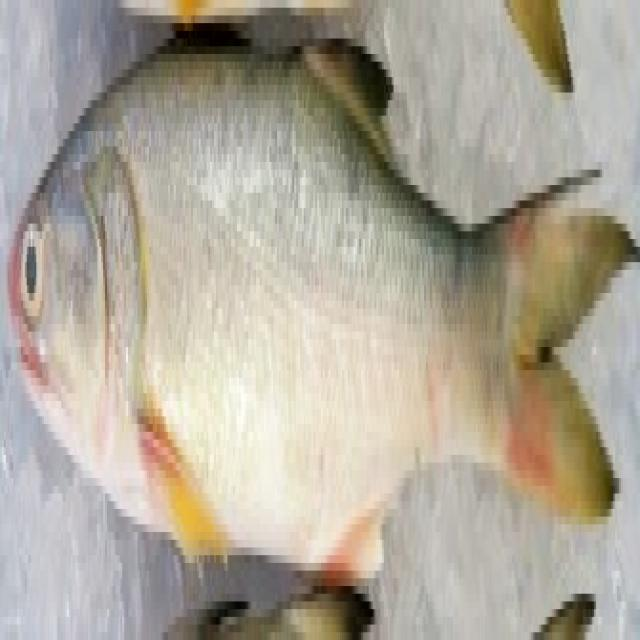Fourfinger-Threadfin: (8, 12, 632, 620)
